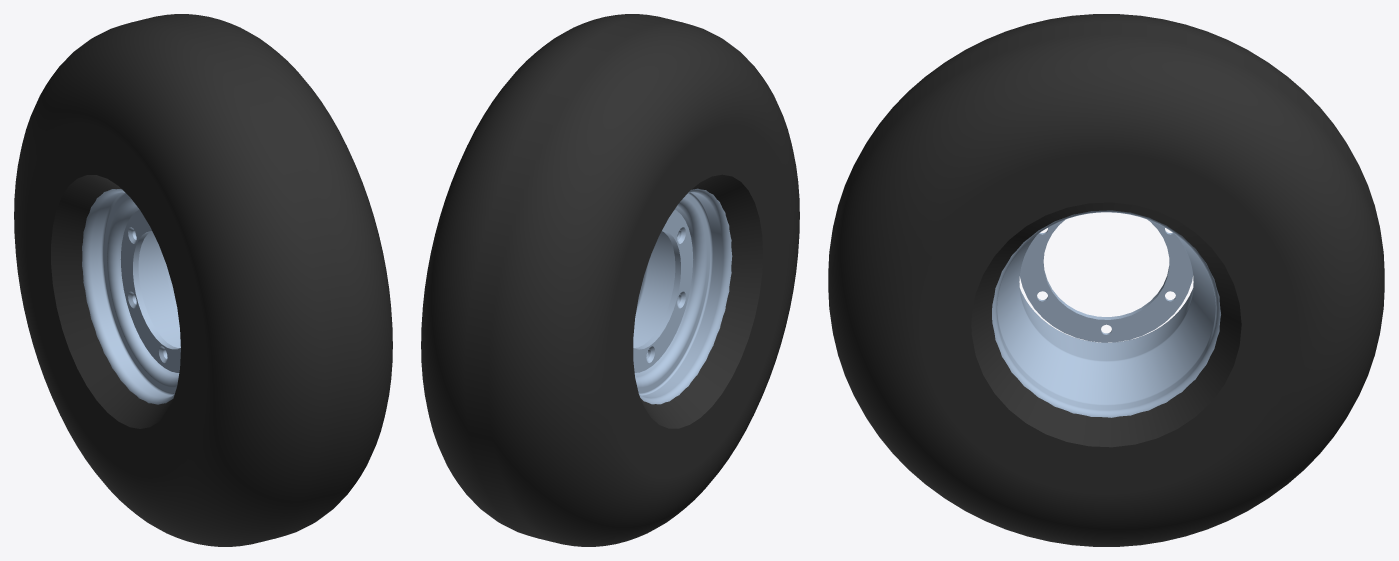
Rendered from Wheel.obj.
3 renders of one model, left to right at view 1: azimuth 30°, elevation 25°; view 2: azimuth 150°, elevation 25°; view 3: azimuth 270°, elevation 25°, orthographic. The views are drawn at different scales.
Visible parts, largest first — view 1: mesh 2 Ratta kumm ligikaudne-1, mesh 1 Ratta velg-1; view 2: mesh 2 Ratta kumm ligikaudne-1, mesh 1 Ratta velg-1; view 3: mesh 2 Ratta kumm ligikaudne-1, mesh 1 Ratta velg-1.
Part boxes in pixels (x1,y1,x2,y2): mesh 2 Ratta kumm ligikaudne-1: (14, 14, 392, 546); mesh 1 Ratta velg-1: (82, 189, 180, 404); mesh 2 Ratta kumm ligikaudne-1: (421, 14, 799, 546); mesh 1 Ratta velg-1: (633, 188, 732, 404); mesh 2 Ratta kumm ligikaudne-1: (828, 14, 1384, 546); mesh 1 Ratta velg-1: (992, 210, 1220, 417).
Bounding box in the file's own units: 0.185 × 0.4896 × 0.49.
